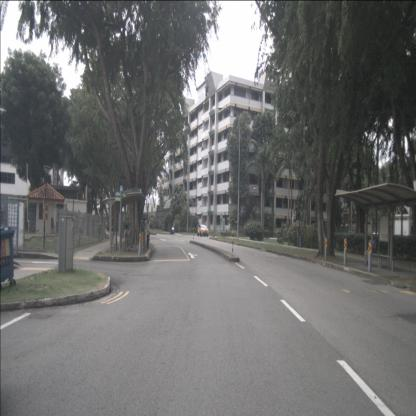human-pedestrian-adult: (364, 234, 376, 266), (124, 224, 134, 252), (140, 217, 146, 249), (109, 216, 114, 248), (296, 222, 302, 248), (146, 219, 150, 249)
vehicle-car: (197, 224, 209, 237)
vehicle-motorcycle: (170, 224, 175, 235)
